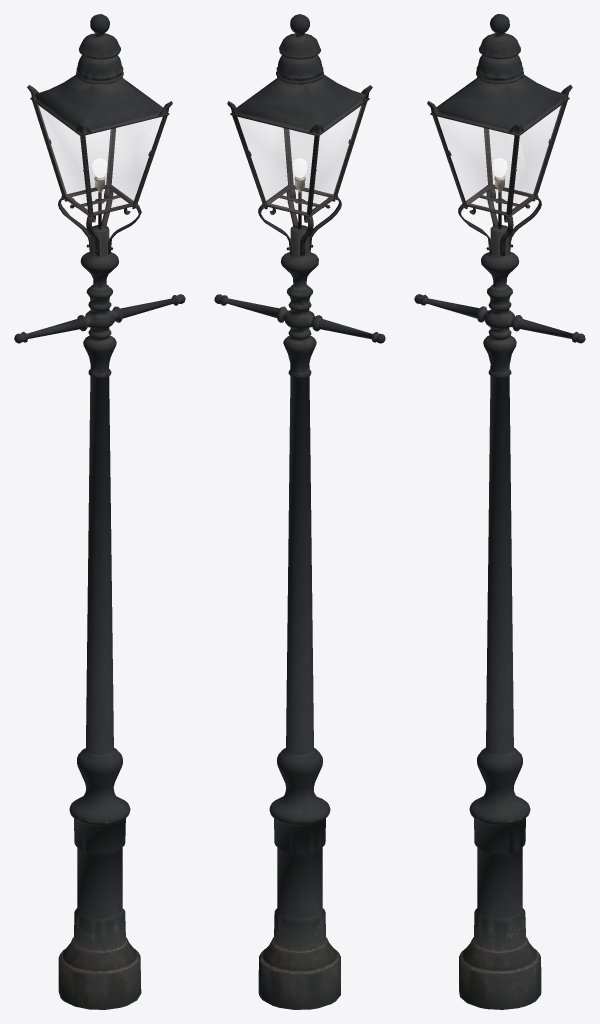
Rendered from street_lamp_01.glb.
The picture shows the model from 3 angles, left to right: view 1: azimuth 30°, elevation 25°; view 2: azimuth 150°, elevation 25°; view 3: azimuth 330°, elevation 25°; orthographic projection.
Parts seen in each view (by area): view 1: street_lamp_01; view 2: street_lamp_01; view 3: street_lamp_01.
Part boxes in pixels (x1=…): street_lamp_01: x1=14, y1=14, x2=185, y2=1009; street_lamp_01: x1=214, y1=14, x2=385, y2=1009; street_lamp_01: x1=414, y1=14, x2=585, y2=1009.
Size of the model in its own units: 0.703 by 3.87 by 0.386.
3 materials, 2 textured.
